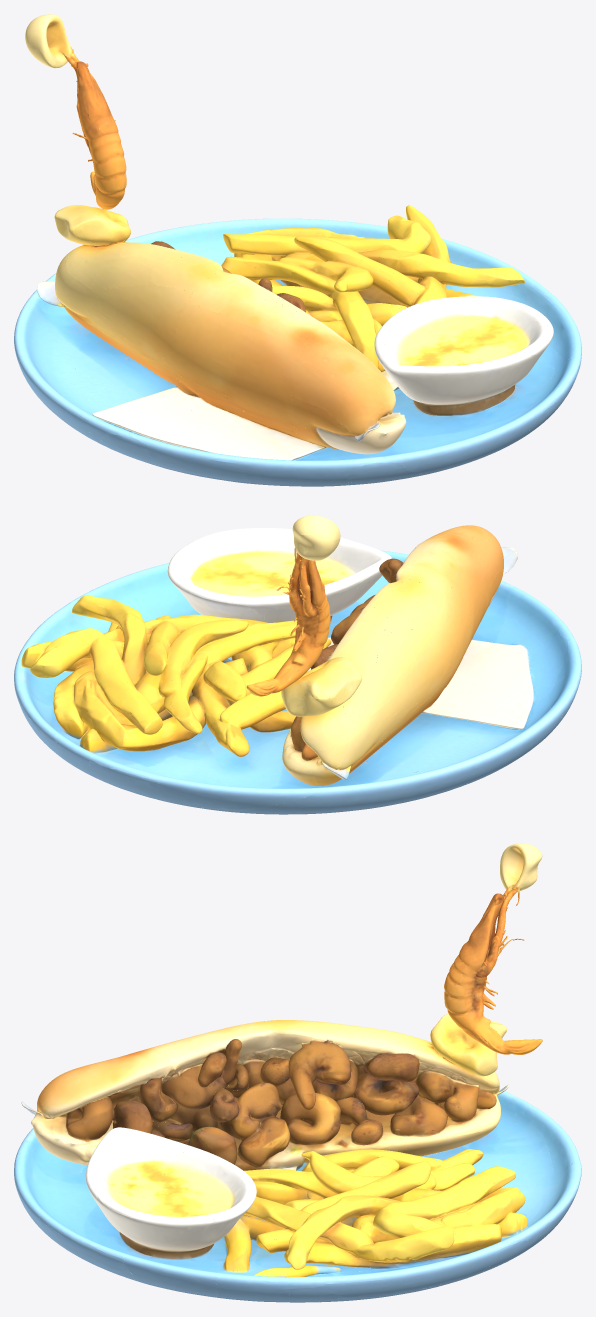
The model's file is sondwitch poissent.glb.
3 renders of one model, top to bottom at view 1: azimuth 30°, elevation 25°; view 2: azimuth 150°, elevation 25°; view 3: azimuth 270°, elevation 25°, orthographic. The views are drawn at different scales.
Parts seen in each view (by area): view 1: tripo_node_dcd99f1e-ad35-463e-a8cf-30375a4463fd; view 2: tripo_node_dcd99f1e-ad35-463e-a8cf-30375a4463fd; view 3: tripo_node_dcd99f1e-ad35-463e-a8cf-30375a4463fd.
Boxes of the visible parts, bbox=[...] form: tripo_node_dcd99f1e-ad35-463e-a8cf-30375a4463fd: bbox=[14, 14, 581, 486]; tripo_node_dcd99f1e-ad35-463e-a8cf-30375a4463fd: bbox=[14, 515, 581, 814]; tripo_node_dcd99f1e-ad35-463e-a8cf-30375a4463fd: bbox=[14, 843, 581, 1302].
Size of the model in its own units: 0.9251 by 0.5786 by 0.9799.
Materials: 1 (1 with a texture image).
